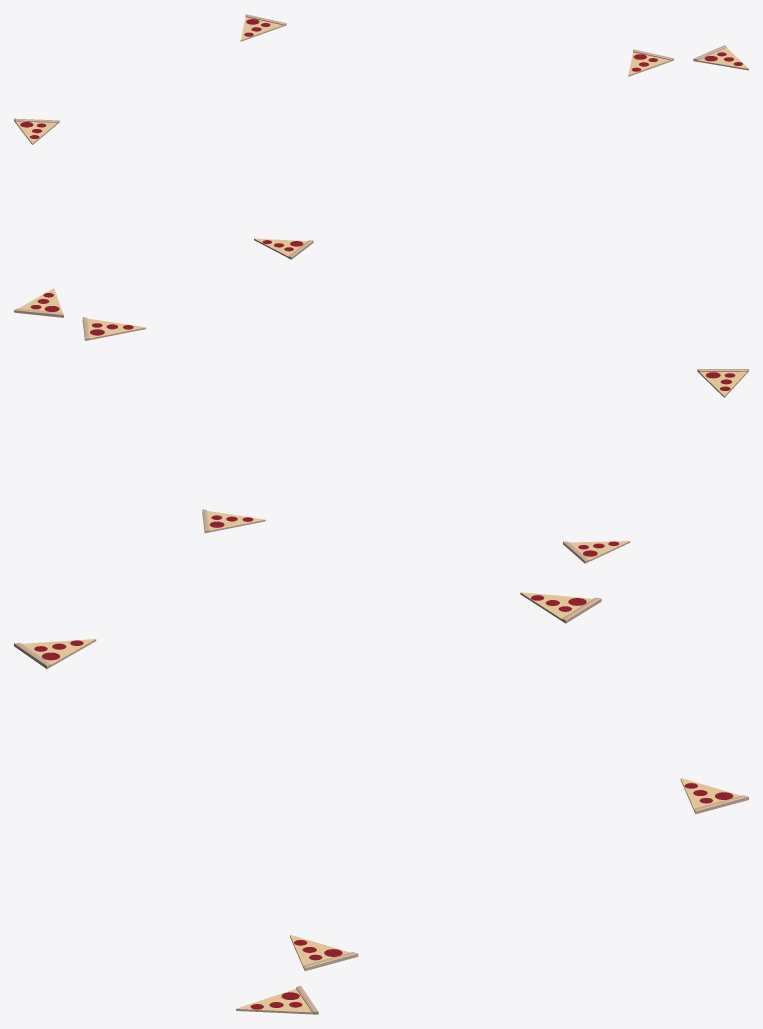
Rendered from Pizzas.glb.
3 renders of one model, top to bottom at view 1: azimuth 30°, elevation 25°; view 2: azimuth 150°, elevation 25°; view 3: azimuth 270°, elevation 25°, orthographic. The views are drawn at different scales.
Visible parts, largest first — view 1: stufflyingaround.001, slice, stufflyingaround, stufflyingaround.003, pizza; view 2: stufflyingaround.003, slice, stufflyingaround, pizza, stufflyingaround.001; view 3: stufflyingaround.001, pizza, stufflyingaround.003, slice, stufflyingaround.
Boxes of the visible parts, left/top/right/bottom form: stufflyingaround.001: left=693, top=45, right=748, bottom=70; slice: left=240, top=14, right=286, bottom=41; stufflyingaround: left=628, top=49, right=673, bottom=76; stufflyingaround.003: left=14, top=118, right=59, bottom=144; pizza: left=254, top=238, right=313, bottom=259; stufflyingaround.003: left=563, top=541, right=630, bottom=563; slice: left=202, top=509, right=265, bottom=533; stufflyingaround: left=82, top=317, right=145, bottom=340; pizza: left=697, top=369, right=748, bottom=397; stufflyingaround.001: left=14, top=288, right=63, bottom=317; stufflyingaround.001: left=236, top=986, right=318, bottom=1014; pizza: left=14, top=639, right=96, bottom=668; stufflyingaround.003: left=520, top=592, right=601, bottom=623; slice: left=680, top=778, right=748, bottom=814; stufflyingaround: left=290, top=934, right=358, bottom=970.
Size of the model in its own units: 2.62 by 0.0416 by 1.94.
Materials: 1 (1 with a texture image).
